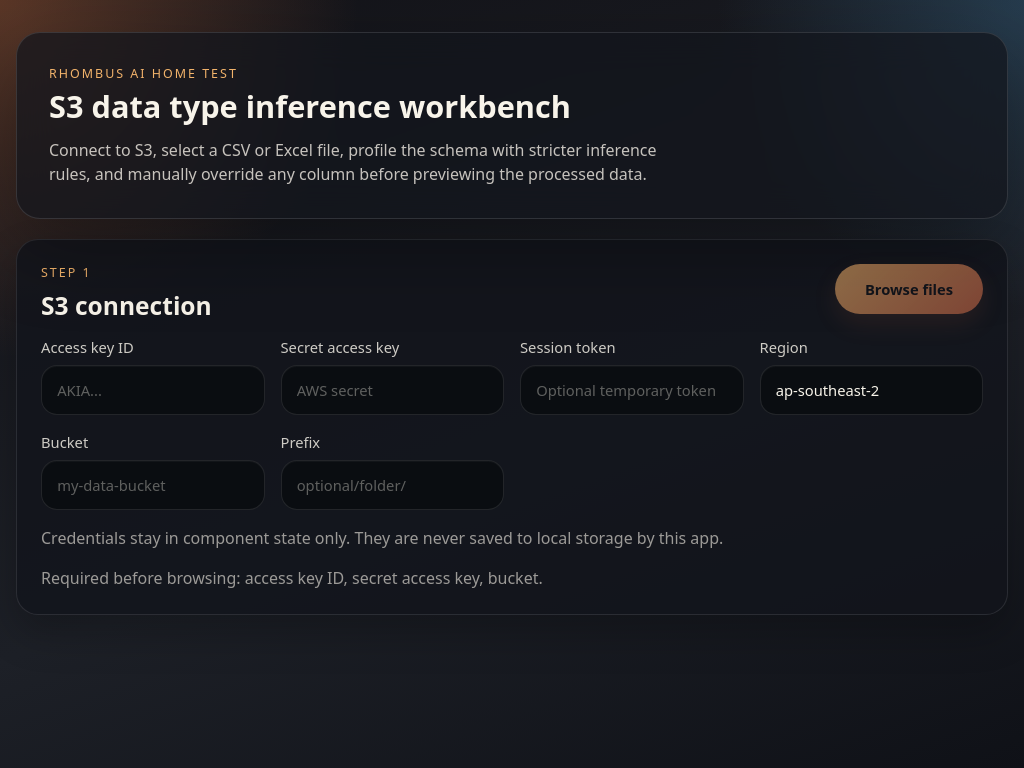
App › shows a stable empty state when browsing returns no supported files
Type "AKIA123" into the field labelled "Access key ID".
click(153, 390); type("AKIA123")  # box [41,365,264,415]
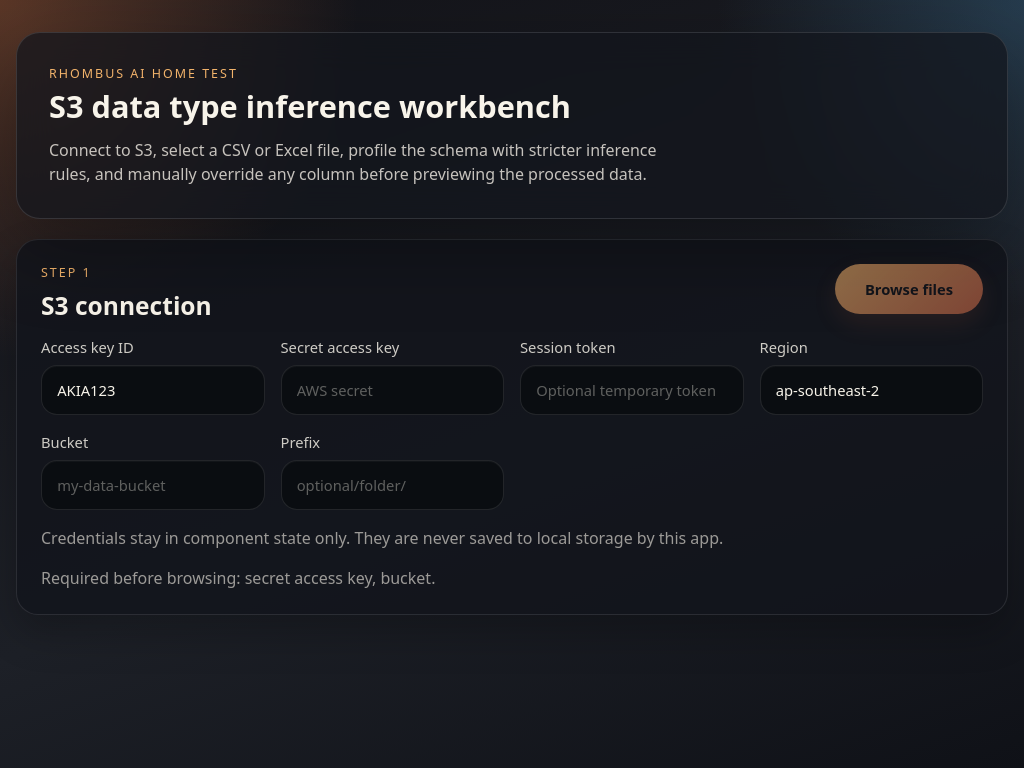
Type "secret" into the password field labelled "Secret access key".
click(392, 390); type("secret")  # box [280,365,504,415]
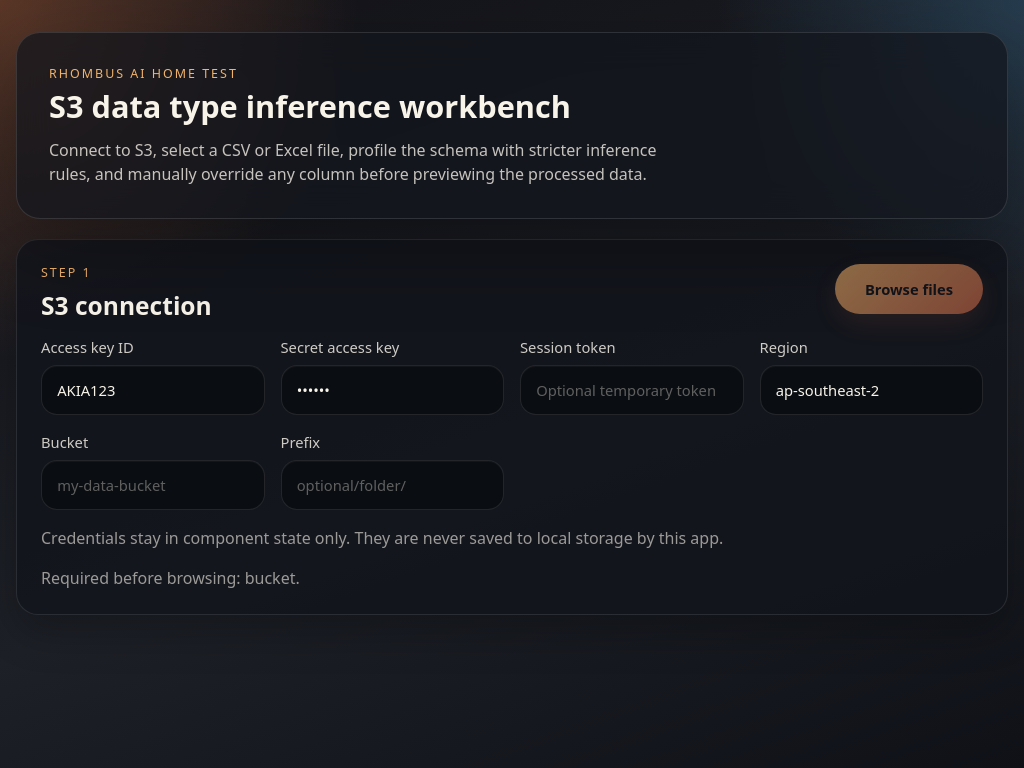
Type "demo-bucket" into the field labelled "Bucket".
click(153, 485); type("demo-bucket")  # box [41,460,264,510]
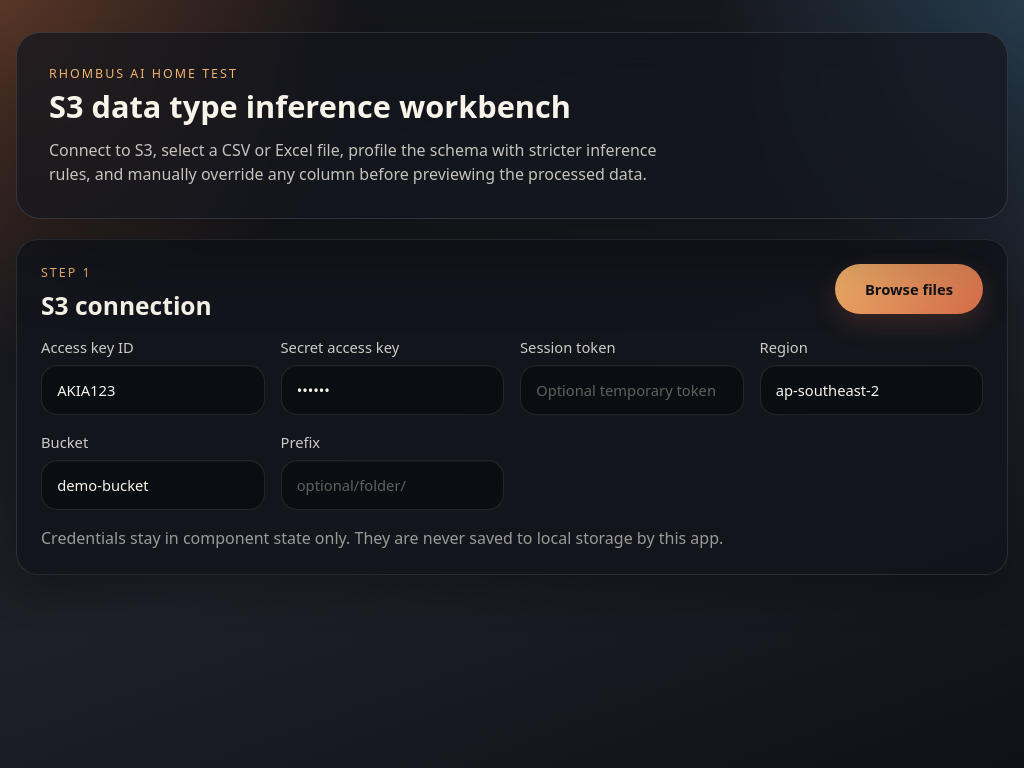
Click the button "Browse files".
click(909, 289)  # box [835,264,983,314]
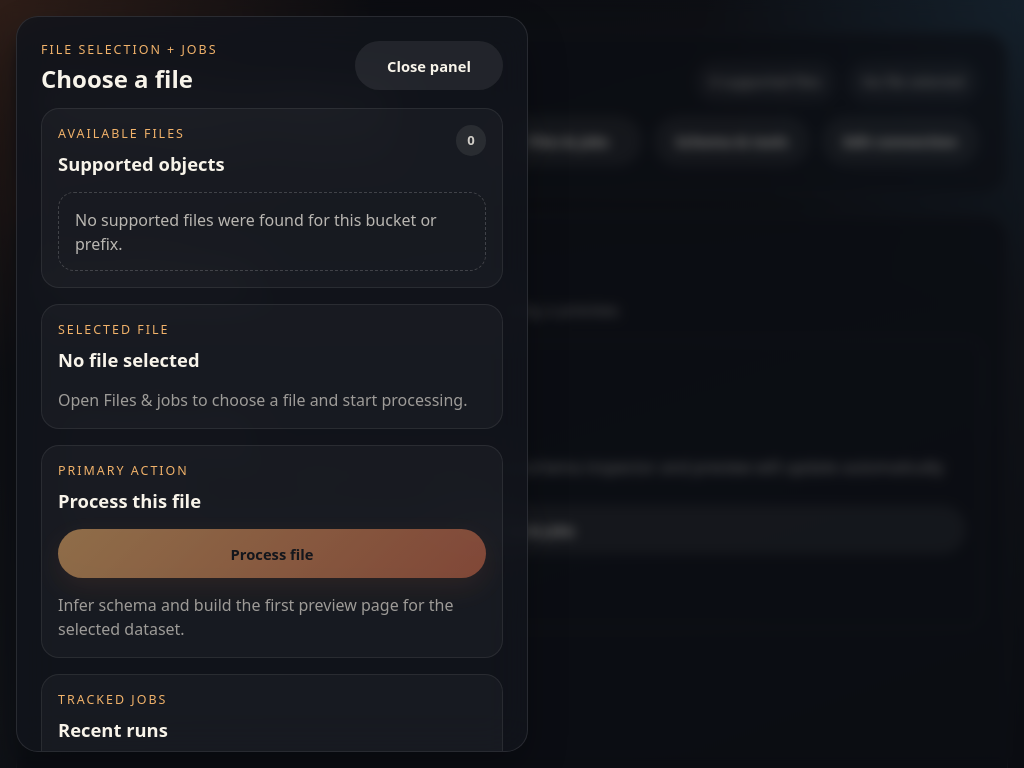
Result: the heading "Processing workbench" is shown at [45,86,401,118]
Result: the text "No supported files were found for this bucket or prefix." is shown at [75,208,469,256]
Result: the button "Process file" is disabled at [58,529,486,578]
